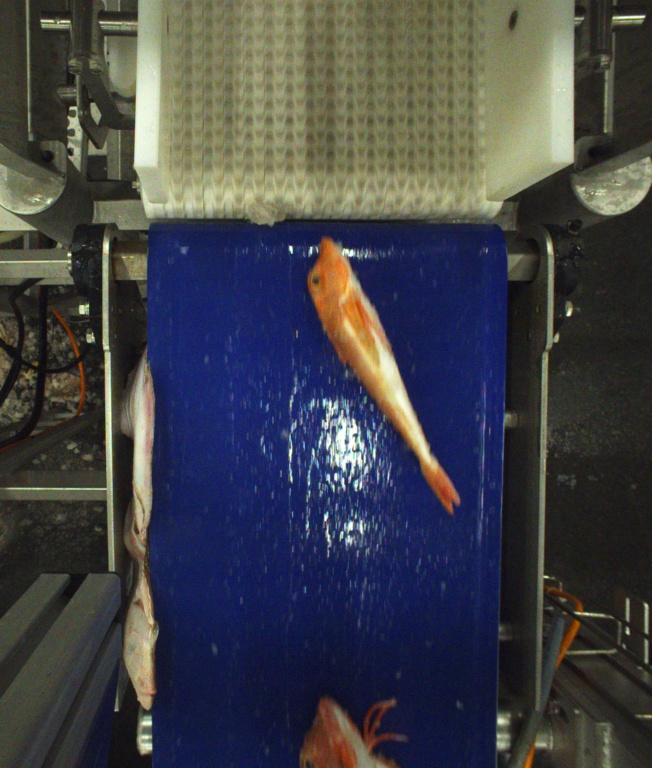GUU: (296, 693, 399, 768)
